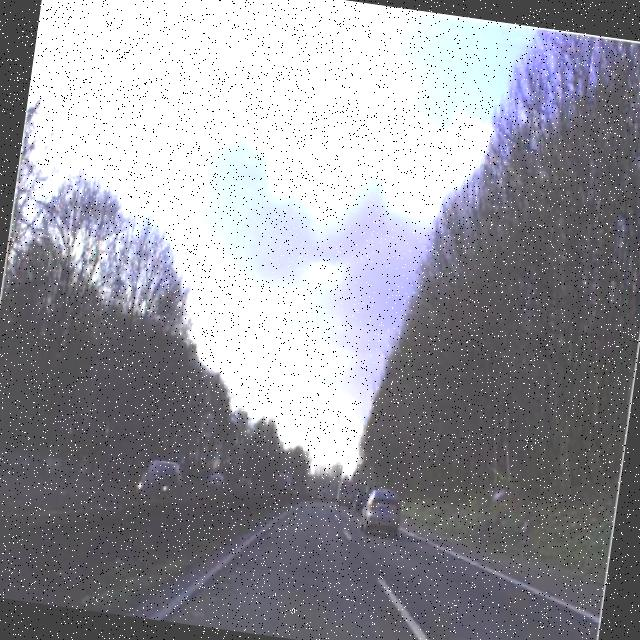Ograniczenie predkosci do 100: (195, 404, 223, 445)
